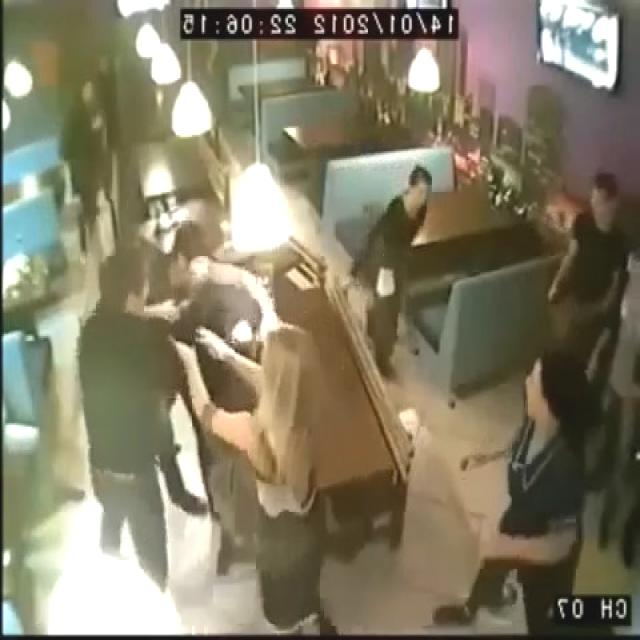fight: (123, 247, 262, 458)
